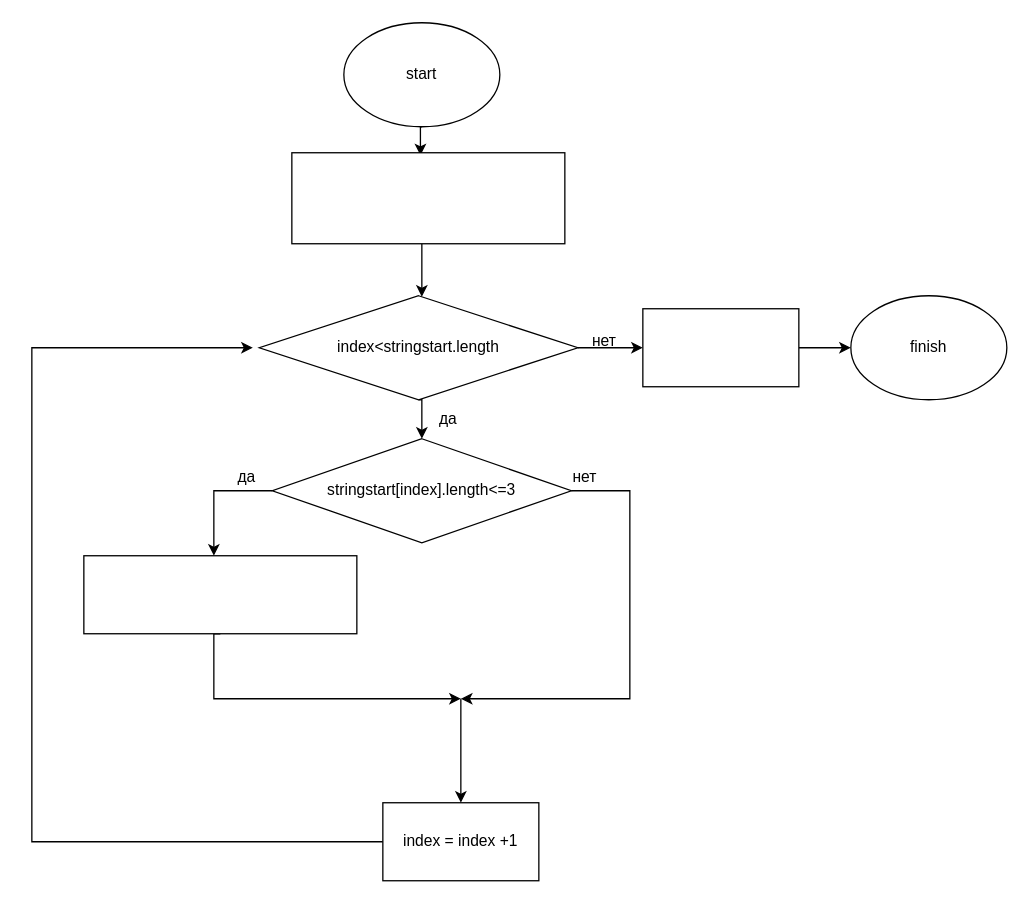
Image size: 1030x903. Some labels were removed from this diagram. The centre of each missing label's shape, as x and y in pixels:
"print(stringfinish)" goes at point (720, 347).
"stringfinish[n] = stringstart[index] n=n+1" goes at point (220, 594).
"stringstart = [str1,str2,str3, str4] stringfinish = [] index = 0 n = 0" goes at point (428, 197).
